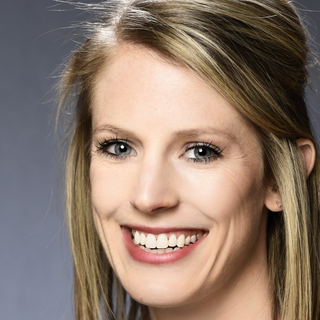eye: (172, 138, 229, 167), (92, 132, 142, 163)
